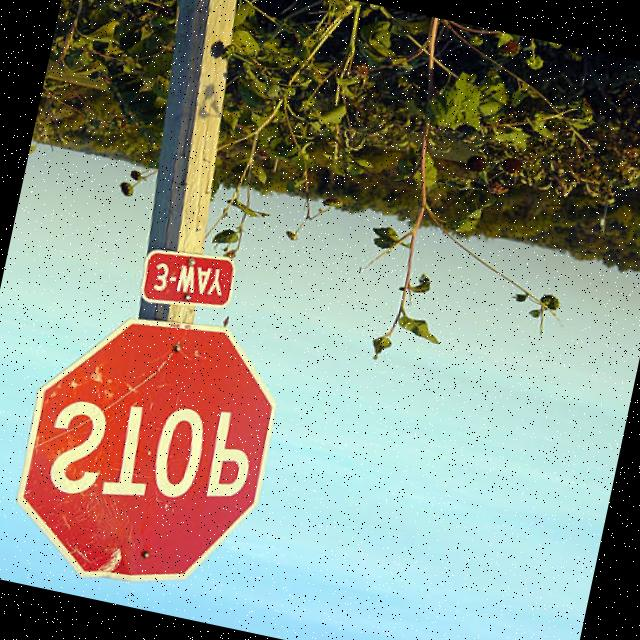stop: (0, 290, 302, 612)
